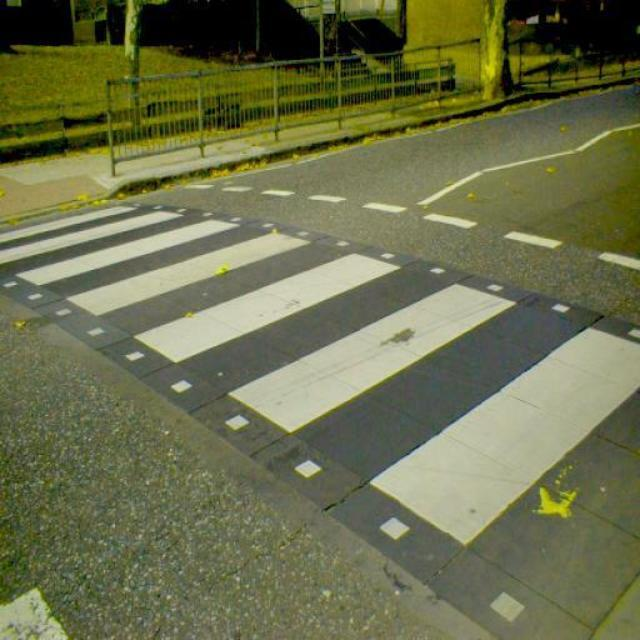sidewalk: (0, 205, 639, 546)
